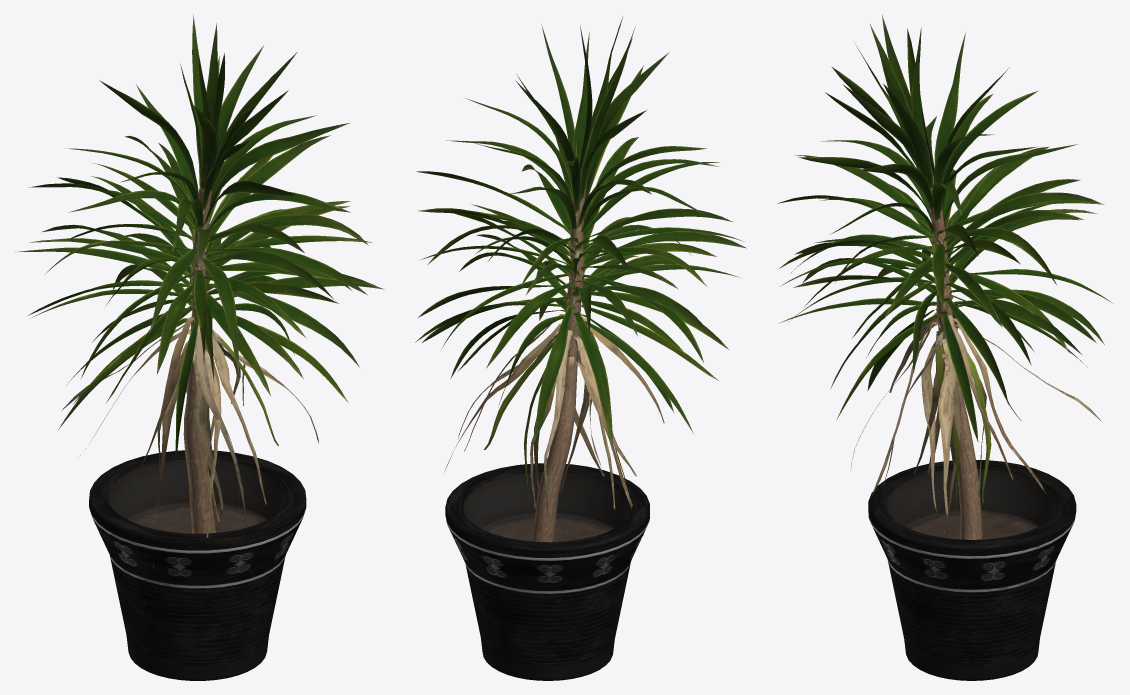
The model's file is palm_pot_small.glb.
3 renders of one model, left to right at view 1: azimuth 30°, elevation 25°; view 2: azimuth 150°, elevation 25°; view 3: azimuth 270°, elevation 25°, orthographic. The views are drawn at different scales.
Visible parts, largest first — view 1: 02_4, flower_pot_3; view 2: 02_4, flower_pot_3; view 3: 02_4, flower_pot_3.
Part boxes in pixels (x1,y1,x2,y2): 02_4: [15, 14, 384, 569]; flower_pot_3: [89, 450, 306, 680]; 02_4: [415, 17, 746, 542]; flower_pot_3: [445, 463, 649, 680]; 02_4: [777, 15, 1113, 539]; flower_pot_3: [868, 460, 1076, 680].
Bounding box in the file's own units: 0.4944 × 0.9838 × 0.4857.
Materials: 2 (2 with a texture image).
